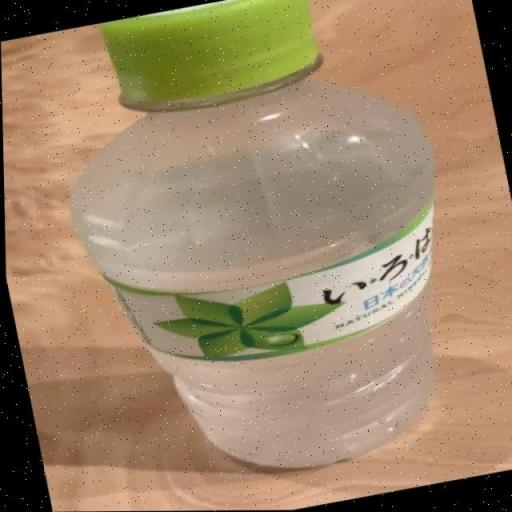plastic: (69, 0, 434, 473)
